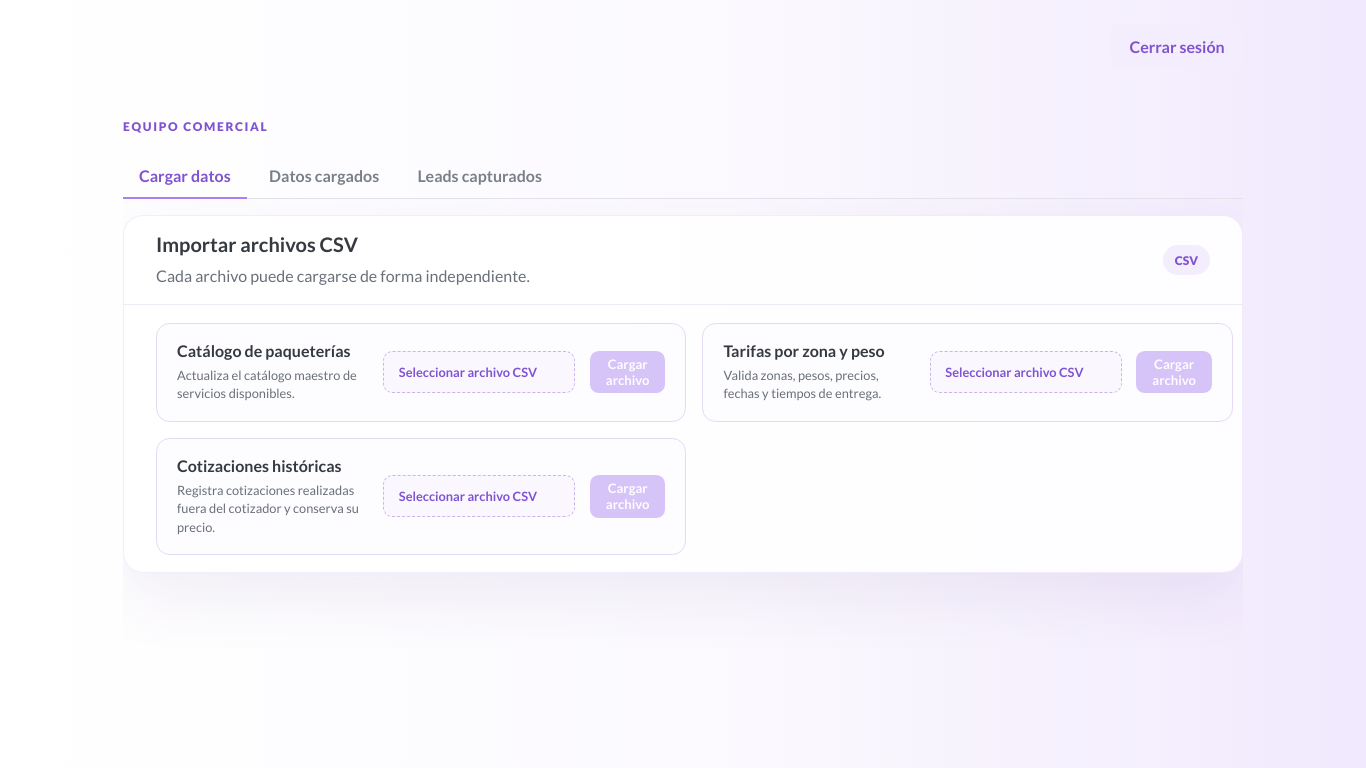
Test: App › shows the data currently stored in PostgreSQL
Click the button "Datos cargados" at {"x": 324, "y": 175}, box [253,153,395,198]
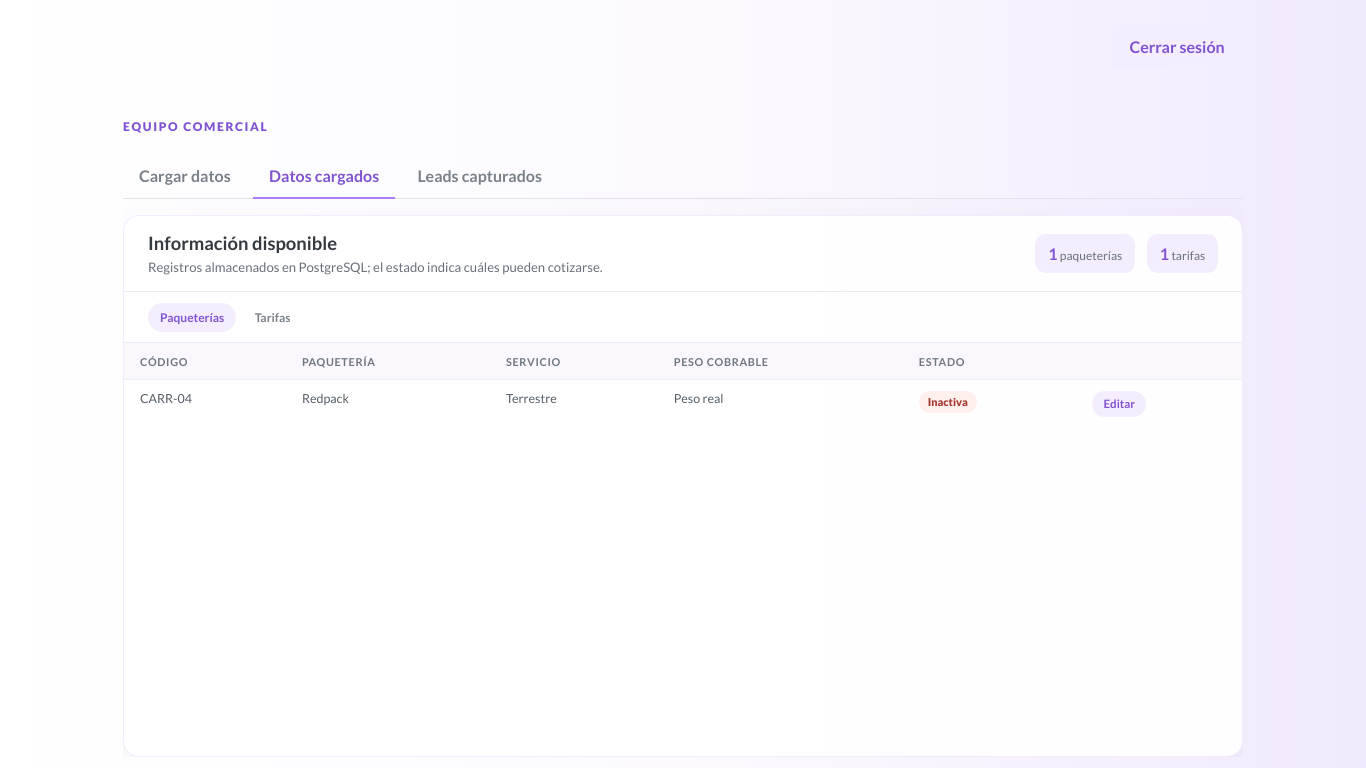
Expected: the text "Redpack" is shown, [286,379,490,428]
Expected: the text "Inactiva" is shown, [919,391,977,413]
